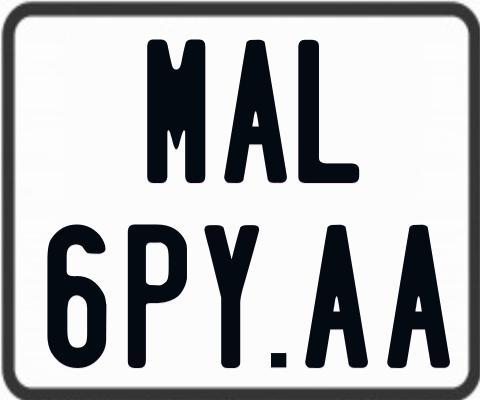6: (44, 225, 108, 374)
A: (384, 224, 451, 373), (302, 223, 368, 372), (223, 39, 291, 182)
L: (297, 37, 363, 186)
M: (145, 40, 206, 188)
P: (125, 222, 186, 369)
Y: (203, 224, 259, 372)
